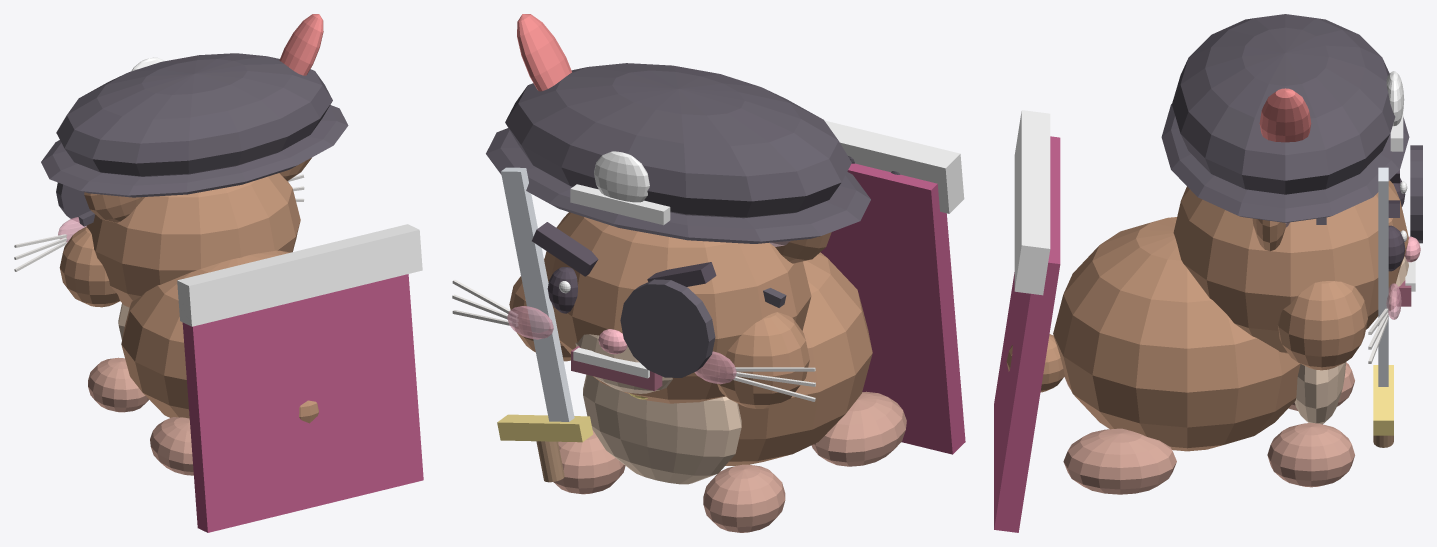
Rendered from LegendaryHamsterPirateCaptain.glb.
The picture shows the model from 3 angles, left to right: view 1: azimuth 30°, elevation 25°; view 2: azimuth 150°, elevation 25°; view 3: azimuth 270°, elevation 25°; orthographic projection. The views are drawn at different scales.
Parts seen in each view (by area): view 1: LegendaryHamsterPirateCaptain_4, LegendaryHamsterPirateCaptain_1, LegendaryHamsterPirateCaptain_5, LegendaryHamsterPirateCaptain_15, LegendaryHamsterPirateCaptain_6, LegendaryHamsterPirateCaptain_9, LegendaryHamsterPirateCaptain_10; view 2: LegendaryHamsterPirateCaptain_1, LegendaryHamsterPirateCaptain_5, LegendaryHamsterPirateCaptain_4, LegendaryHamsterPirateCaptain_8, LegendaryHamsterPirateCaptain_6, LegendaryHamsterPirateCaptain_15, LegendaryHamsterPirateCaptain_7, LegendaryHamsterPirateCaptain_0, LegendaryHamsterPirateCaptain_9, LegendaryHamsterPirateCaptain_14, LegendaryHamsterPirateCaptain_10, LegendaryHamsterPirateCaptain_12 (+2 smaller); view 3: LegendaryHamsterPirateCaptain_5, LegendaryHamsterPirateCaptain_1, LegendaryHamsterPirateCaptain_4, LegendaryHamsterPirateCaptain_6, LegendaryHamsterPirateCaptain_15, LegendaryHamsterPirateCaptain_8, LegendaryHamsterPirateCaptain_9, LegendaryHamsterPirateCaptain_7, LegendaryHamsterPirateCaptain_14, LegendaryHamsterPirateCaptain_0, LegendaryHamsterPirateCaptain_10.
Boxes of the visible parts, left/top/right/bottom form: LegendaryHamsterPirateCaptain_4: left=182, top=274, right=423, bottom=532; LegendaryHamsterPirateCaptain_1: left=41, top=53, right=348, bottom=226; LegendaryHamsterPirateCaptain_5: left=59, top=157, right=318, bottom=423; LegendaryHamsterPirateCaptain_15: left=131, top=57, right=422, bottom=326; LegendaryHamsterPirateCaptain_6: left=88, top=357, right=193, bottom=475; LegendaryHamsterPirateCaptain_9: left=279, top=14, right=323, bottom=75; LegendaryHamsterPirateCaptain_10: left=14, top=174, right=304, bottom=271; LegendaryHamsterPirateCaptain_1: left=486, top=63, right=900, bottom=377; LegendaryHamsterPirateCaptain_5: left=509, top=212, right=872, bottom=465; LegendaryHamsterPirateCaptain_4: left=820, top=163, right=965, bottom=454; LegendaryHamsterPirateCaptain_8: left=575, top=334, right=741, bottom=484; LegendaryHamsterPirateCaptain_6: left=553, top=391, right=906, bottom=532; LegendaryHamsterPirateCaptain_15: left=559, top=120, right=964, bottom=378; LegendaryHamsterPirateCaptain_7: left=501, top=167, right=574, bottom=421; LegendaryHamsterPirateCaptain_0: left=532, top=222, right=716, bottom=313; LegendaryHamsterPirateCaptain_9: left=517, top=14, right=571, bottom=91; LegendaryHamsterPirateCaptain_14: left=497, top=393, right=647, bottom=442; LegendaryHamsterPirateCaptain_10: left=452, top=280, right=815, bottom=401; LegendaryHamsterPirateCaptain_12: left=507, top=306, right=736, bottom=384; LegendaryHamsterPirateCaptain_5: left=1006, top=180, right=1408, bottom=451; LegendaryHamsterPirateCaptain_1: left=1161, top=14, right=1422, bottom=243; LegendaryHamsterPirateCaptain_4: left=994, top=136, right=1060, bottom=532; LegendaryHamsterPirateCaptain_6: left=1063, top=362, right=1354, bottom=494; LegendaryHamsterPirateCaptain_15: left=1014, top=71, right=1415, bottom=295; LegendaryHamsterPirateCaptain_8: left=1294, top=256, right=1408, bottom=424; LegendaryHamsterPirateCaptain_9: left=1259, top=88, right=1311, bottom=142; LegendaryHamsterPirateCaptain_7: left=1378, top=167, right=1388, bottom=386; LegendaryHamsterPirateCaptain_14: left=1373, top=365, right=1393, bottom=435; LegendaryHamsterPirateCaptain_0: left=1388, top=170, right=1405, bottom=271; LegendaryHamsterPirateCaptain_10: left=1368, top=308, right=1388, bottom=363.
Bounding box in the file's own units: 3.9 × 4.83 × 4.15.
